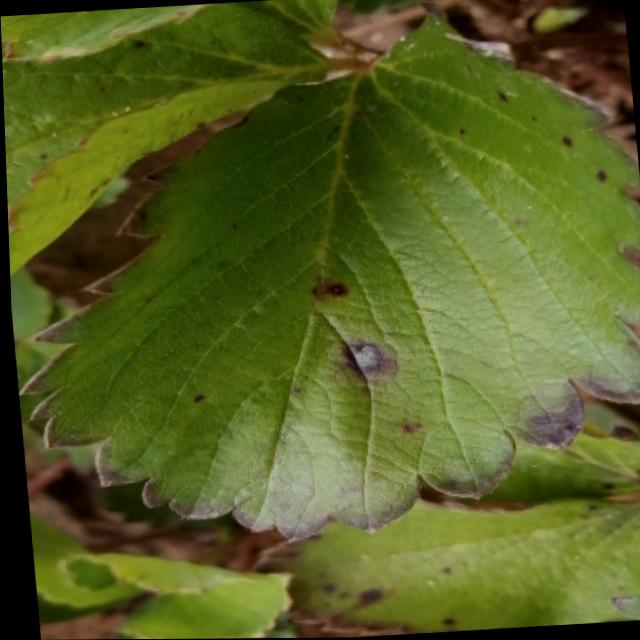Leaf Spot: (15, 5, 640, 544), (2, 2, 343, 277), (236, 496, 640, 637), (466, 387, 640, 513)
